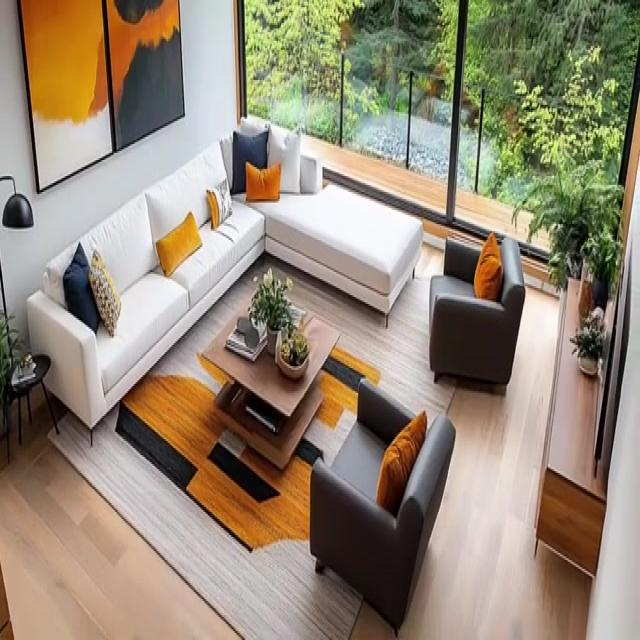obstacle: (19, 117, 425, 439), (309, 375, 456, 637), (533, 274, 618, 580), (199, 299, 341, 469), (428, 230, 525, 390)
